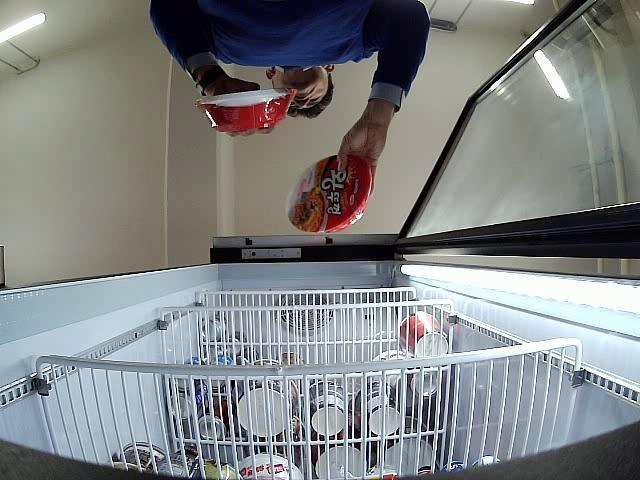10_wangTtukkeong: (286, 154, 374, 234), (196, 88, 299, 132)
